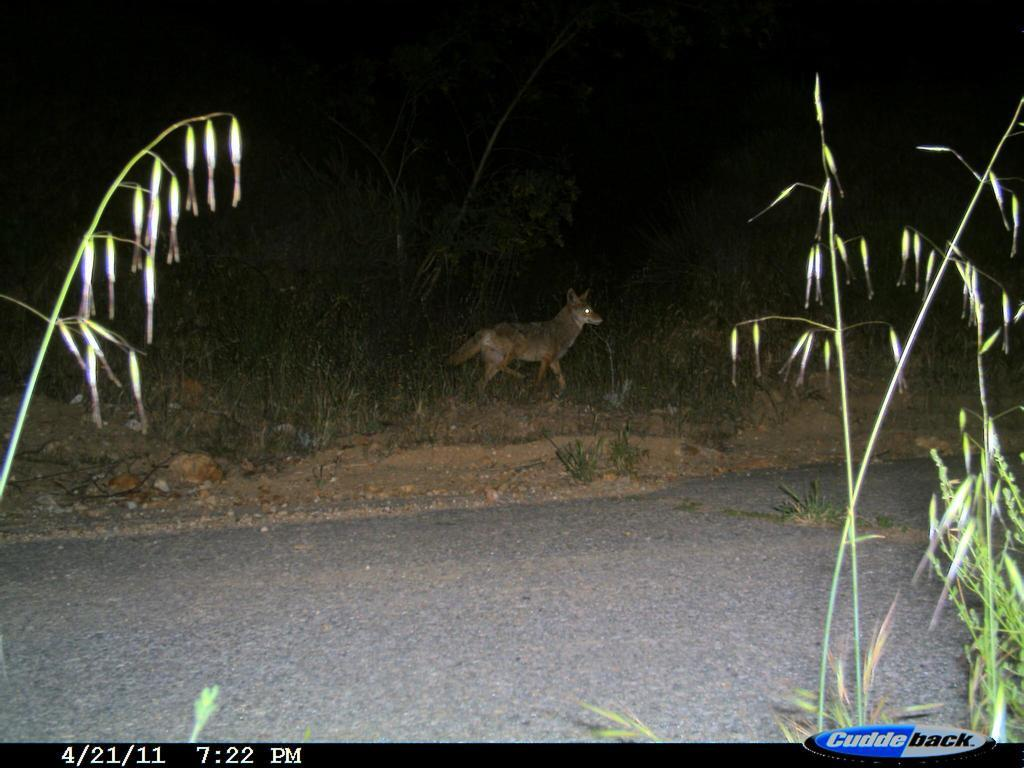coyote: (451, 281, 610, 415)
